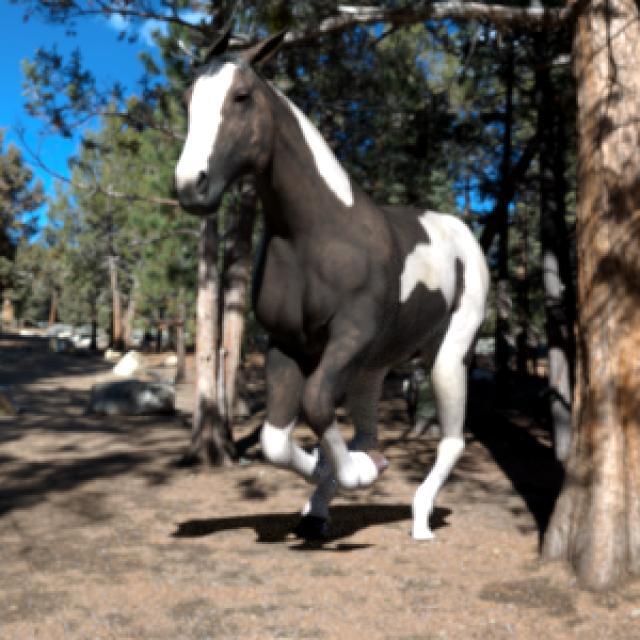horse: (175, 32, 485, 539)
